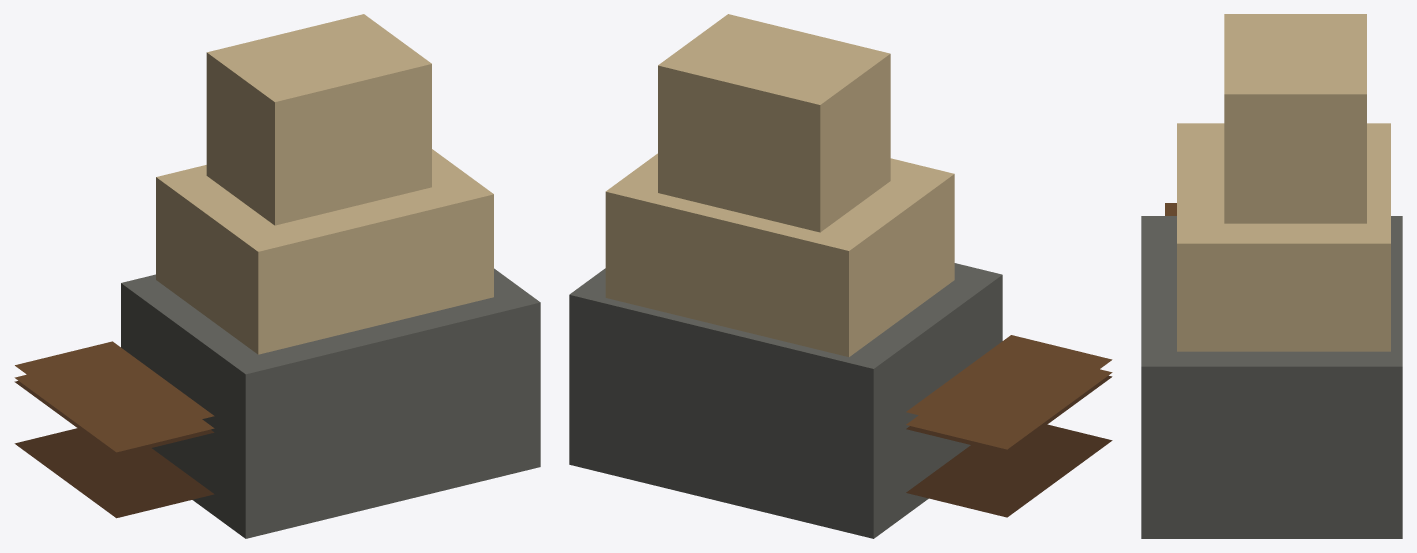
File: prop_forge_lod1.glb
The picture shows the model from 3 angles, left to right: view 1: azimuth 30°, elevation 25°; view 2: azimuth 150°, elevation 25°; view 3: azimuth 270°, elevation 25°; orthographic projection. The views are drawn at different scales.
Parts seen in each view (by area): view 1: prop_forge_lod1; view 2: prop_forge_lod1; view 3: prop_forge_lod1.
Boxes of the visible parts, x1,y1,x2,y2 form: prop_forge_lod1: [14, 14, 540, 538]; prop_forge_lod1: [569, 14, 1112, 538]; prop_forge_lod1: [1141, 14, 1402, 538].
Size of the model in its own units: 2.1 by 1.9 by 1.1.
